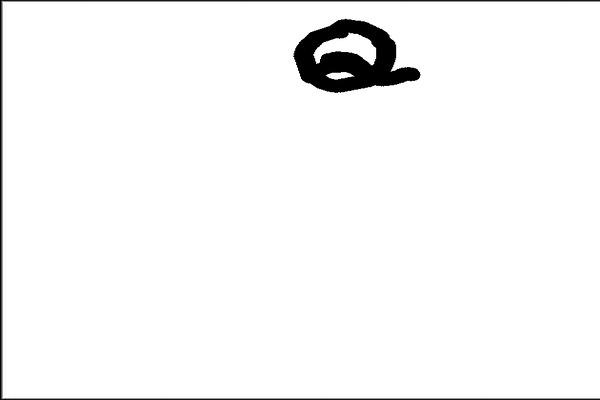Q: (288, 10, 418, 97)
